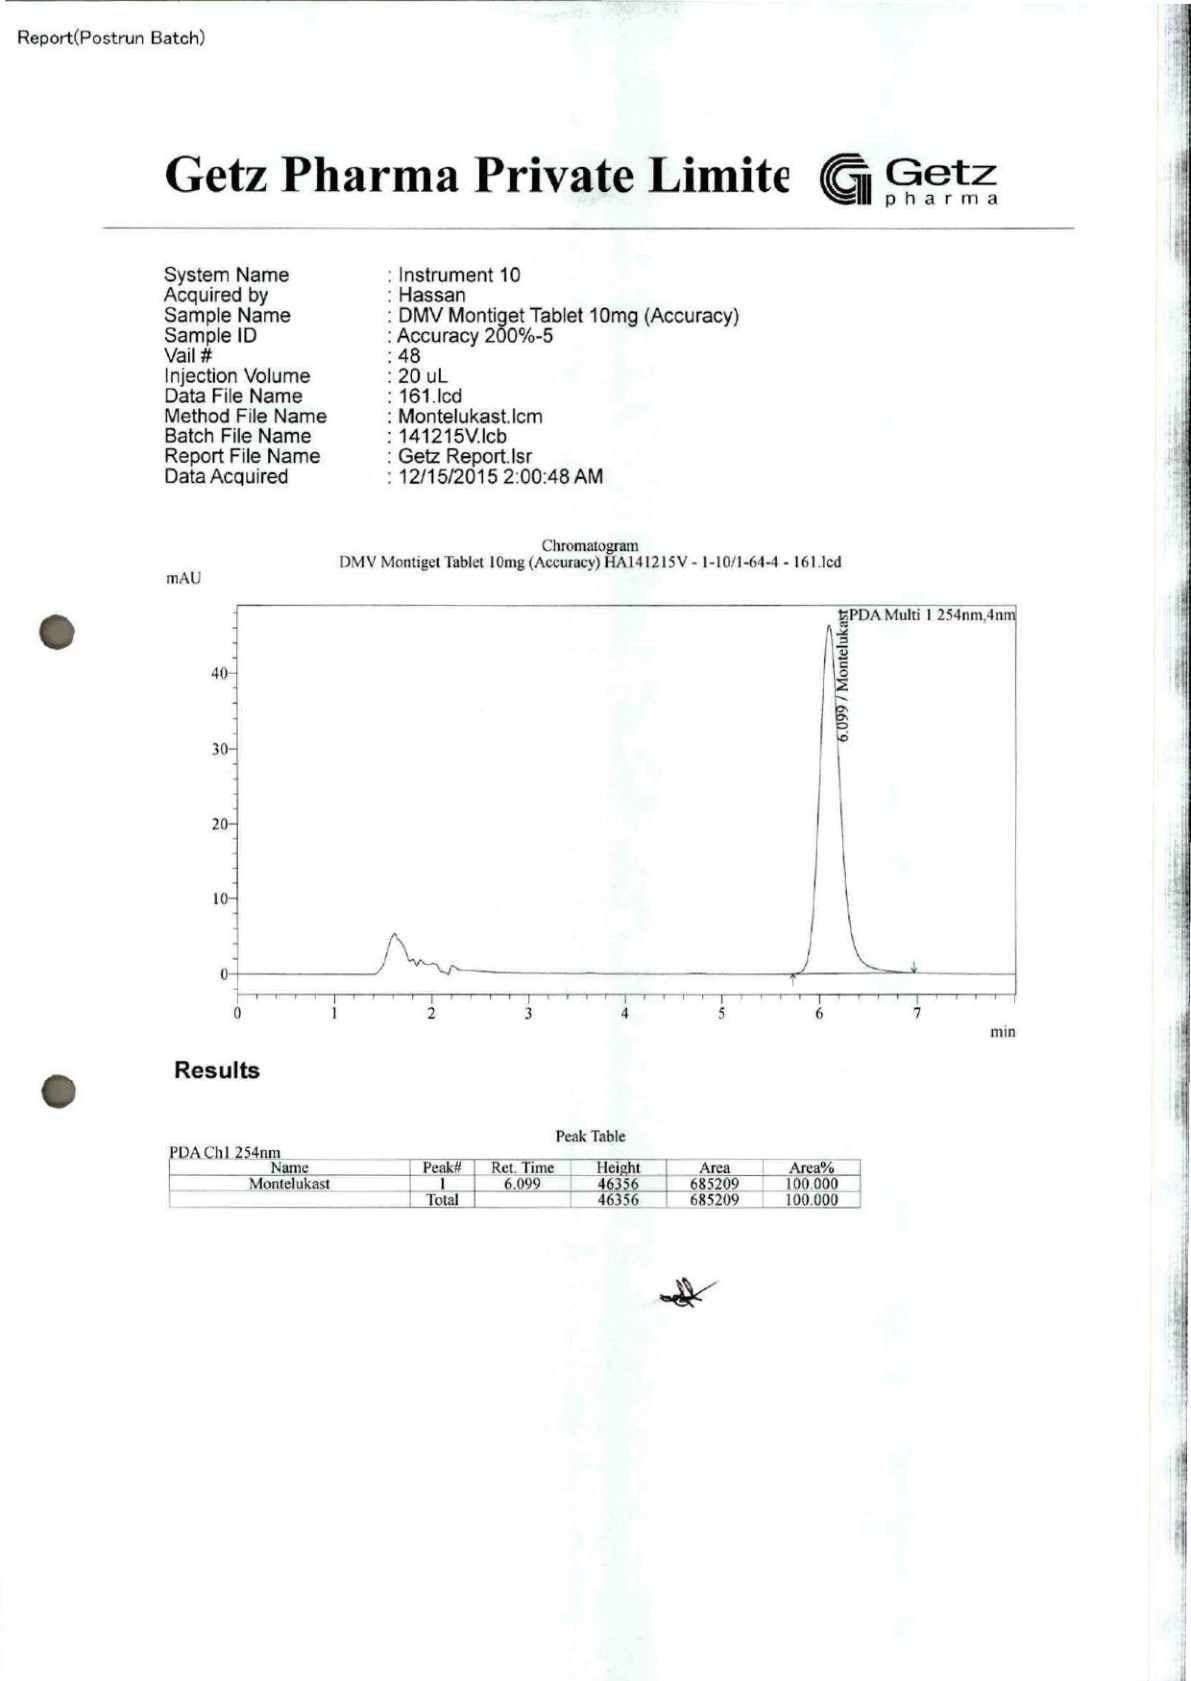full_lined: (168, 1158, 862, 1209)
nolines: (157, 259, 742, 490)
